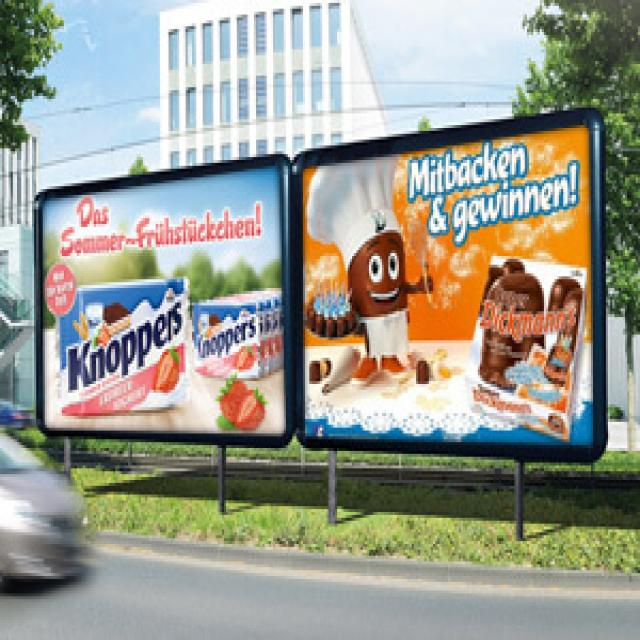Werbetafel frei: (291, 109, 608, 463), (32, 149, 294, 449)
